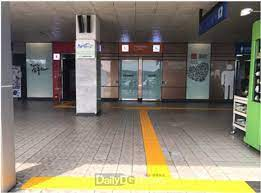guide_blocks: (25, 176, 255, 193), (139, 111, 169, 175), (103, 106, 217, 109), (55, 102, 76, 107)
